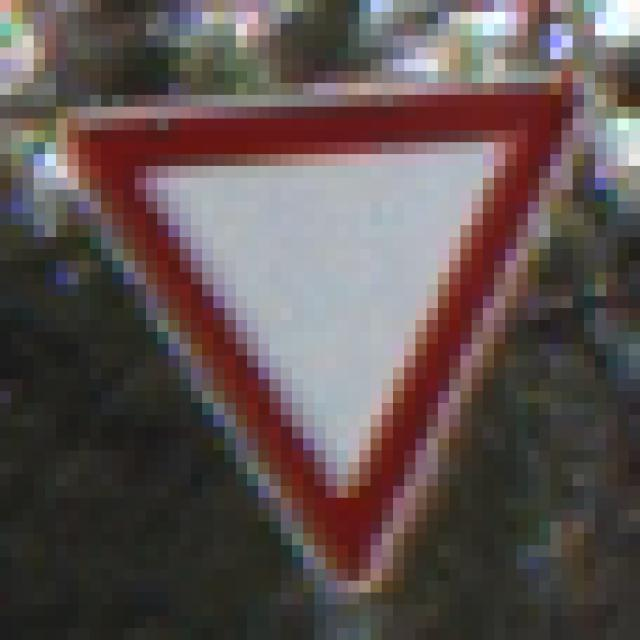Give Way: (57, 60, 585, 570)
